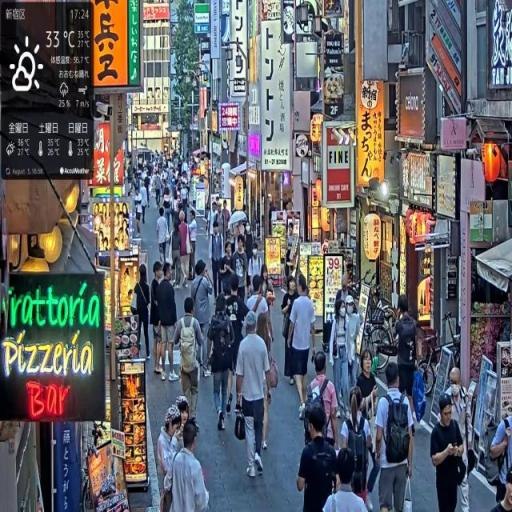person: (235, 309, 276, 483), (375, 358, 417, 512), (431, 393, 470, 512), (173, 296, 208, 427), (289, 277, 320, 423), (298, 404, 339, 512), (220, 274, 248, 417), (208, 296, 237, 434), (342, 390, 375, 507), (303, 352, 340, 450), (172, 420, 211, 512), (393, 297, 419, 423), (323, 445, 371, 512), (158, 403, 187, 512), (156, 263, 180, 383), (191, 261, 215, 379), (490, 401, 512, 512), (282, 273, 300, 387), (134, 264, 151, 361), (233, 237, 251, 306), (210, 221, 225, 300), (157, 207, 171, 273), (189, 209, 200, 277)
